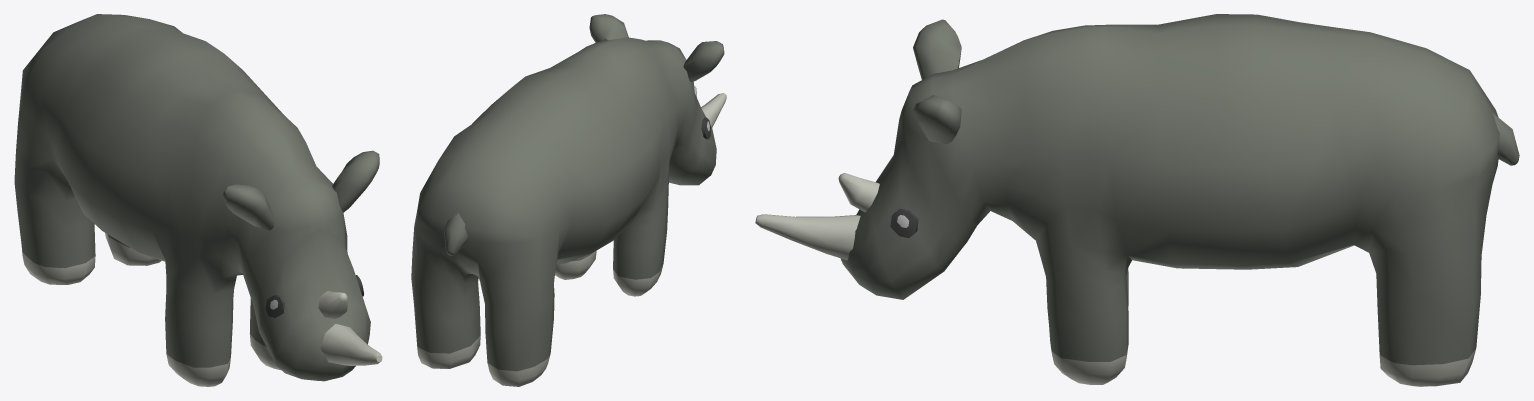
Rendered from Rhino_01.fbx.
3 renders of one model, left to right at view 1: azimuth 30°, elevation 25°; view 2: azimuth 150°, elevation 25°; view 3: azimuth 270°, elevation 25°, orthographic. The views are drawn at different scales.
Parts seen in each view (by area): view 1: Rhino_01; view 2: Rhino_01; view 3: Rhino_01.
Part boxes in pixels (left/top/right/bottom): Rhino_01: left=14, top=14, right=382, bottom=386; Rhino_01: left=411, top=14, right=726, bottom=386; Rhino_01: left=755, top=14, right=1519, bottom=386.
Bounding box in the file's own units: 0.1382 × 0.2059 × 0.4264.
